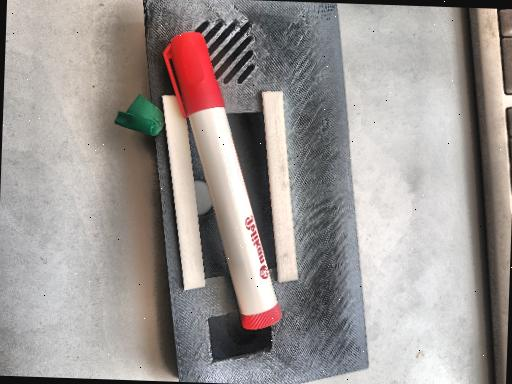marcador rojo: (163, 32, 281, 329)
